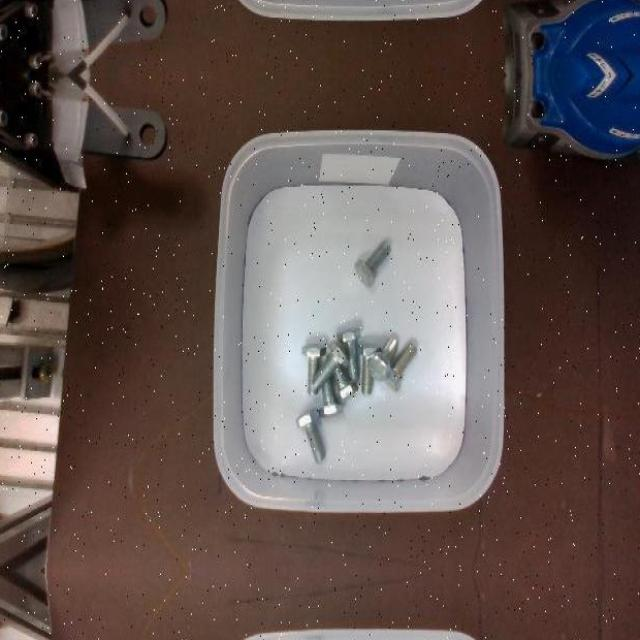screw: (311, 338, 348, 389), (295, 407, 326, 463), (355, 240, 391, 288), (367, 336, 398, 381), (336, 326, 362, 377)
